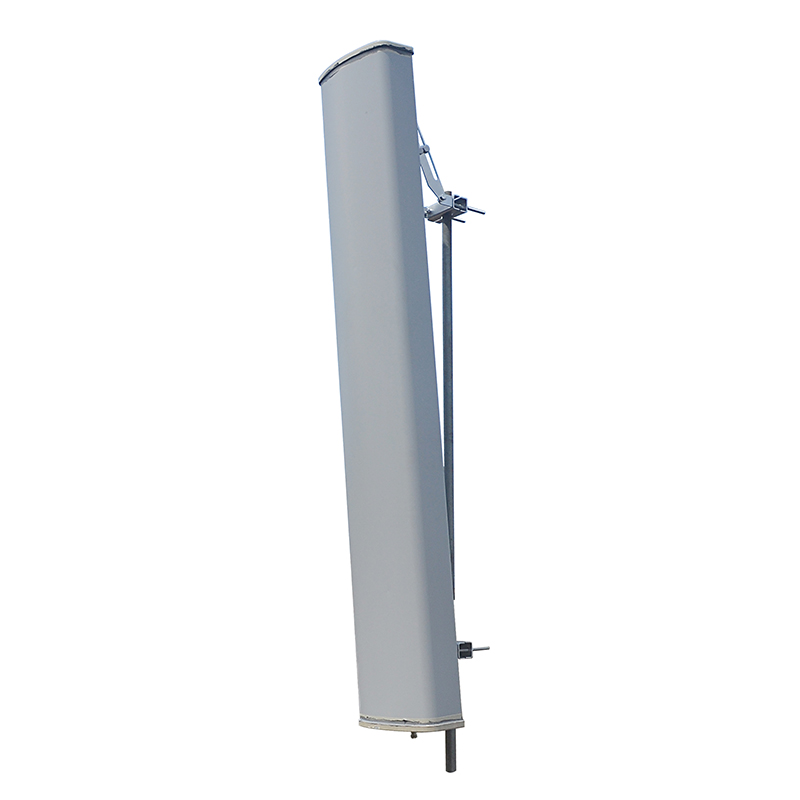sa: (308, 39, 501, 774)
